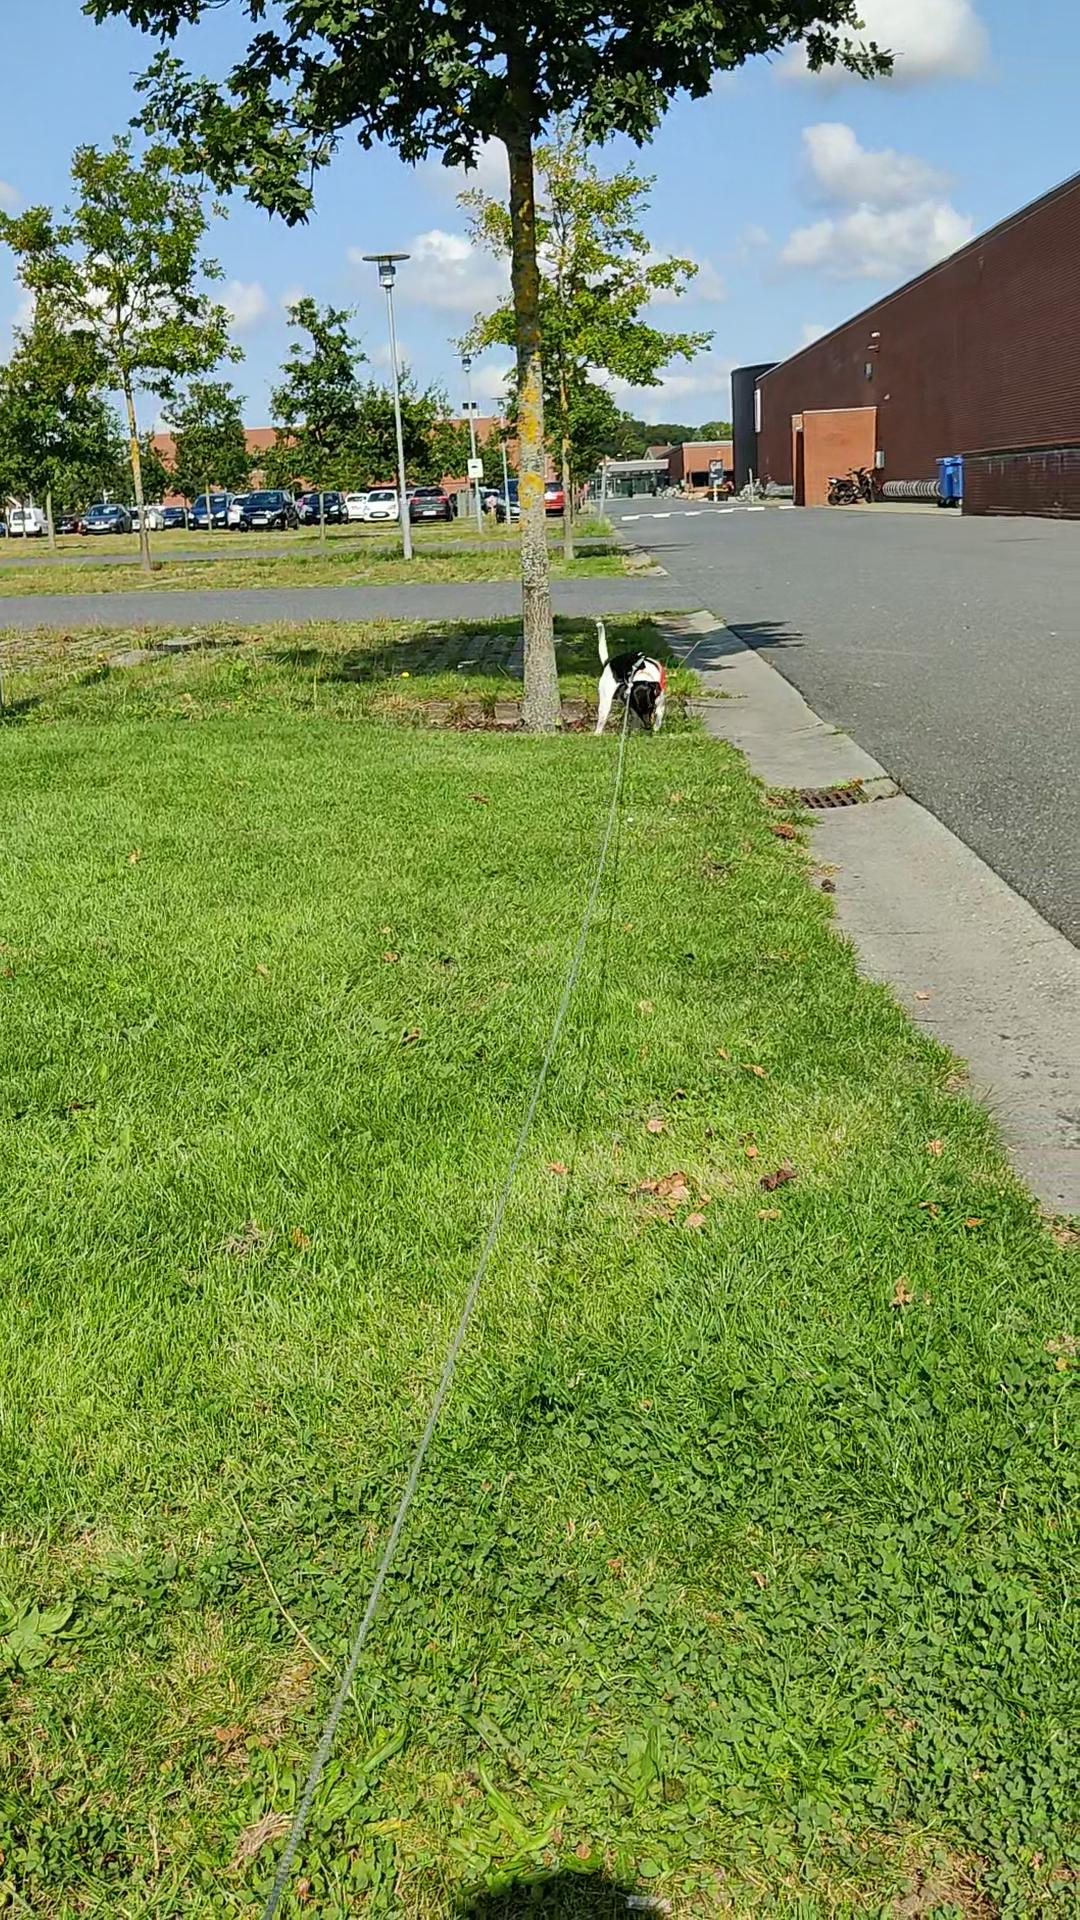Dog: (583, 617, 675, 742)
